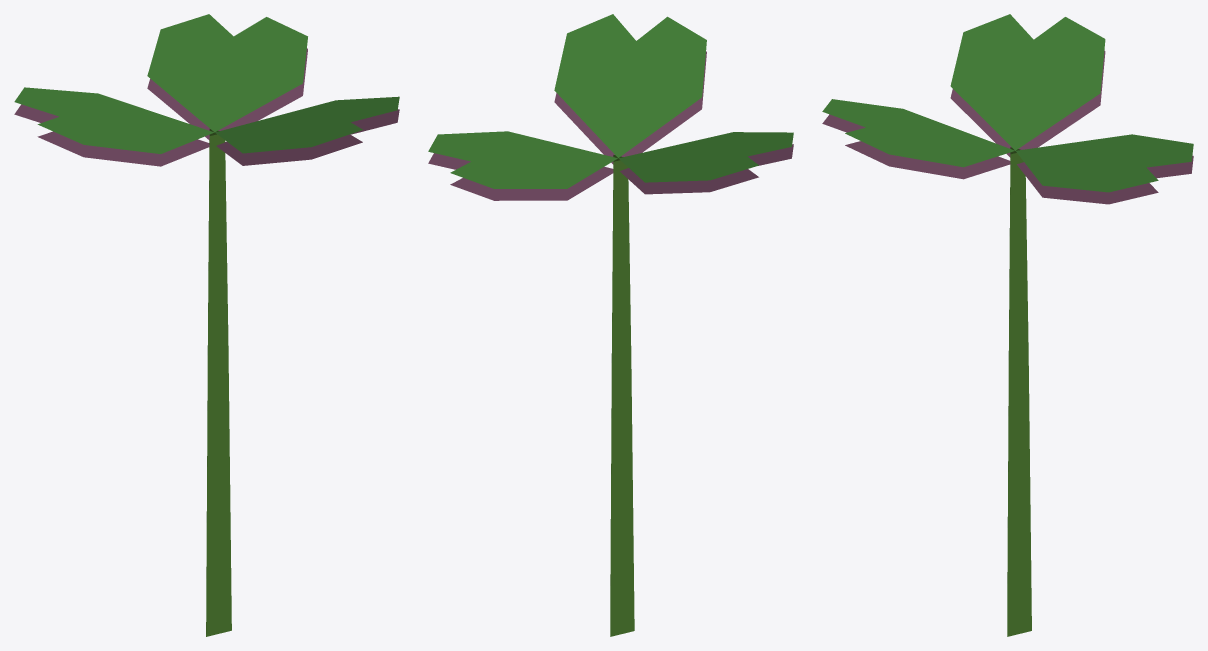
The model's file is redwood_sorrel.fbx.
3 renders of one model, left to right at view 1: azimuth 30°, elevation 25°; view 2: azimuth 150°, elevation 25°; view 3: azimuth 270°, elevation 25°, orthographic. The views are drawn at different scales.
Parts seen in each view (by area): view 1: redwood_sorrel; view 2: redwood_sorrel; view 3: redwood_sorrel.
Part boxes in pixels (x1,y1,x2,y2): redwood_sorrel: (14, 14, 399, 636); redwood_sorrel: (428, 14, 793, 636); redwood_sorrel: (822, 14, 1193, 636).
Size of the model in its own units: 24.35 by 40.64 by 25.25.
Materials: 1 (1 with a texture image).
